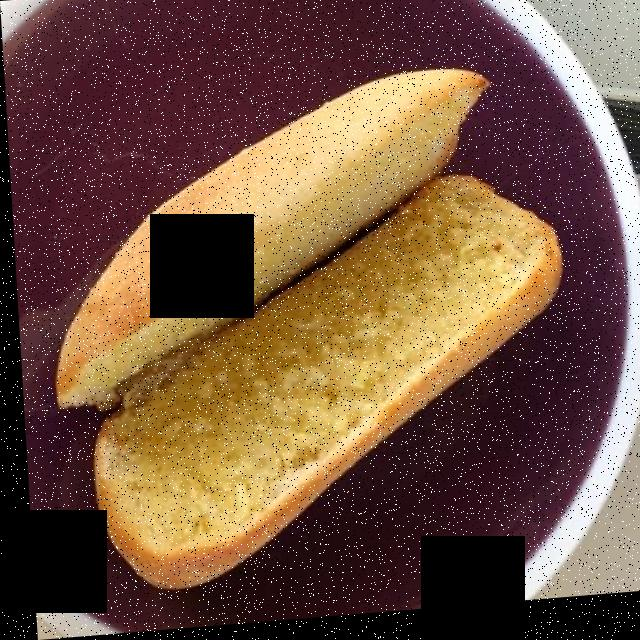bread-french-white-flour: (56, 45, 547, 562)
